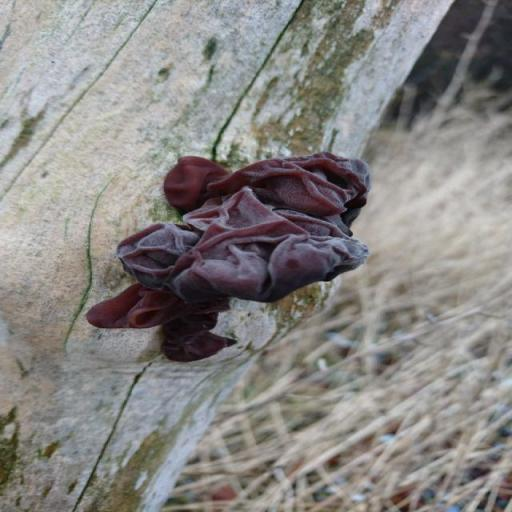mushroom: (88, 153, 363, 361)
